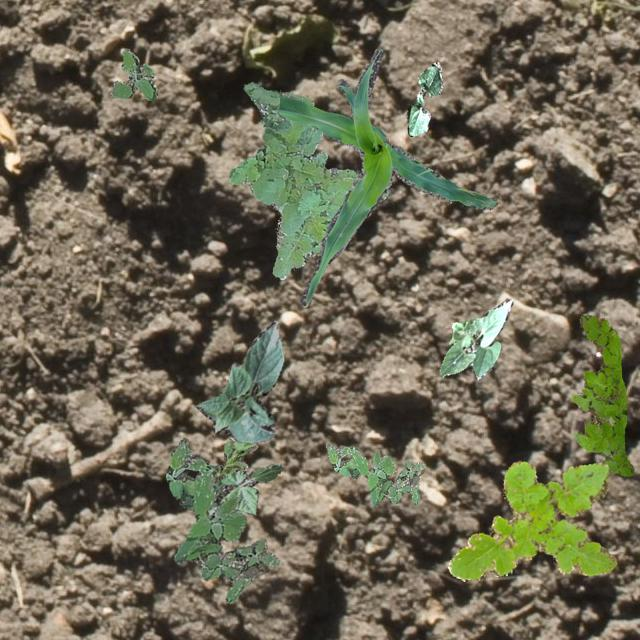crop: (278, 47, 497, 306), (195, 319, 282, 442), (438, 297, 512, 378), (194, 462, 282, 514), (406, 61, 442, 136)
weed: (228, 80, 356, 278), (447, 460, 616, 580), (164, 437, 278, 602), (570, 312, 634, 476), (326, 442, 424, 506), (110, 48, 156, 100), (212, 436, 256, 482)
